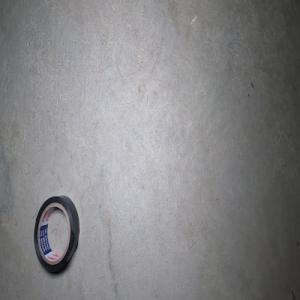Tape: (33, 195, 79, 274)
